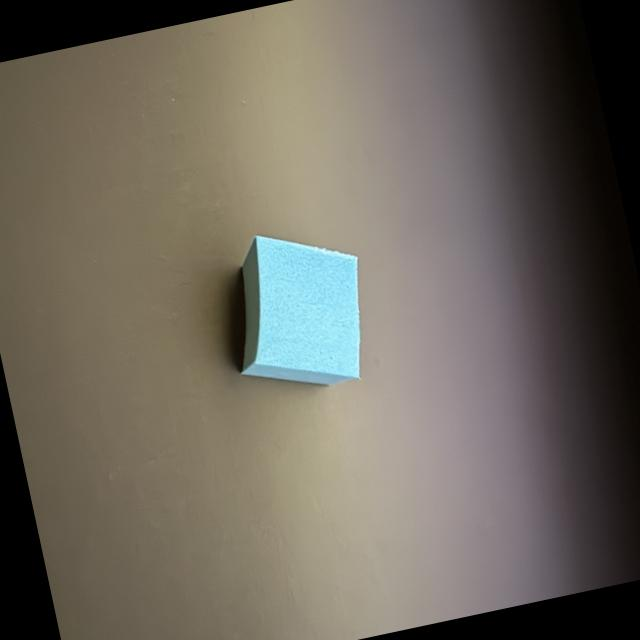bluecube: (241, 234, 359, 384)
